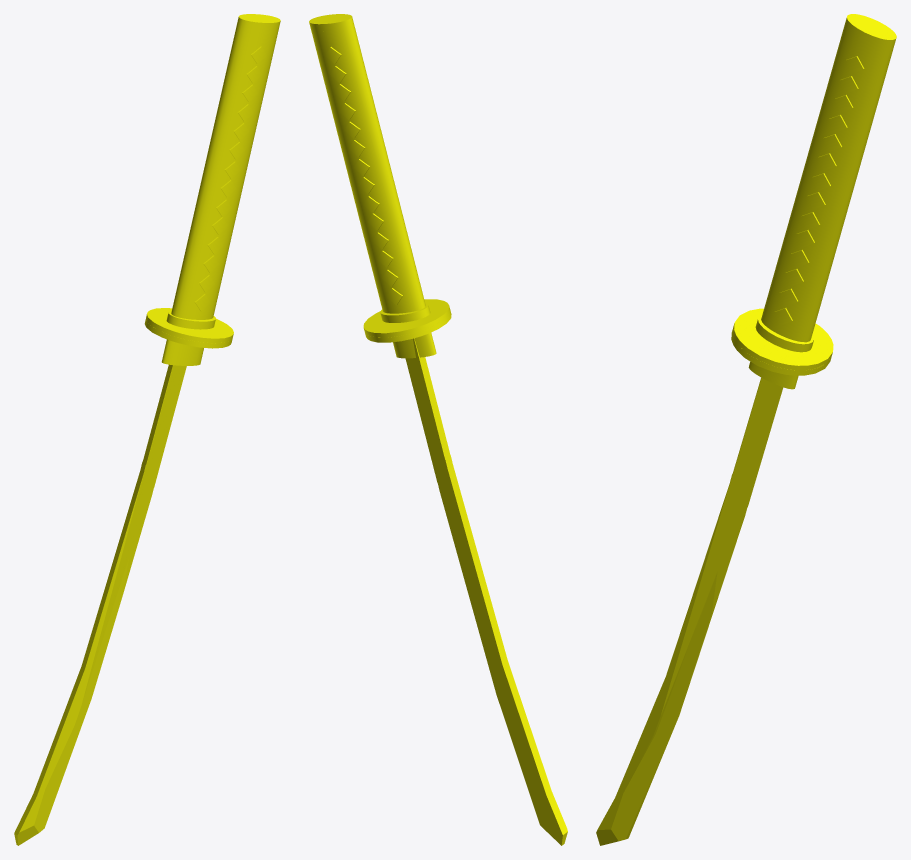
File: Katana.obj
The picture shows the model from 3 angles, left to right: view 1: azimuth 30°, elevation 25°; view 2: azimuth 150°, elevation 25°; view 3: azimuth 330°, elevation 25°; orthographic projection. The views are drawn at different scales.
Visible parts, largest first — view 1: Katana1; view 2: Katana1; view 3: Katana1.
Boxes of the visible parts, bbox=[...] form: Katana1: bbox=[14, 14, 280, 845]; Katana1: bbox=[309, 14, 567, 845]; Katana1: bbox=[596, 14, 896, 845].
Bounding box in the file's own units: 1.88 × 5.34 × 0.5557.
